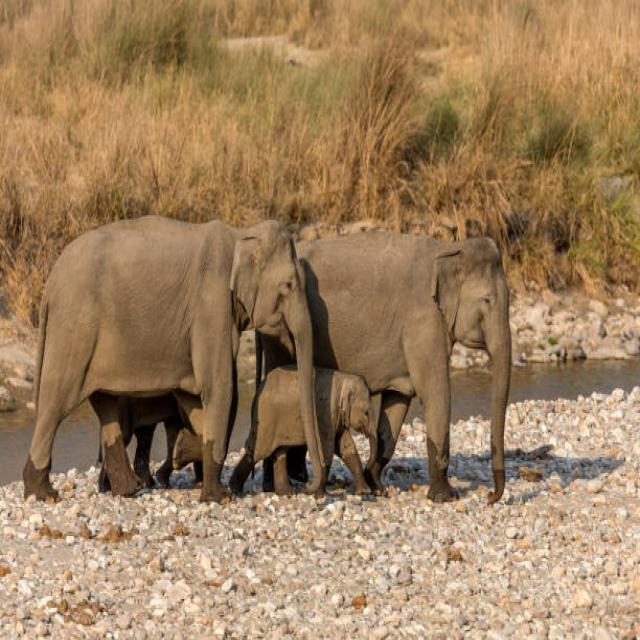Elephant: (16, 209, 318, 511), (331, 217, 569, 506), (247, 341, 386, 520)
